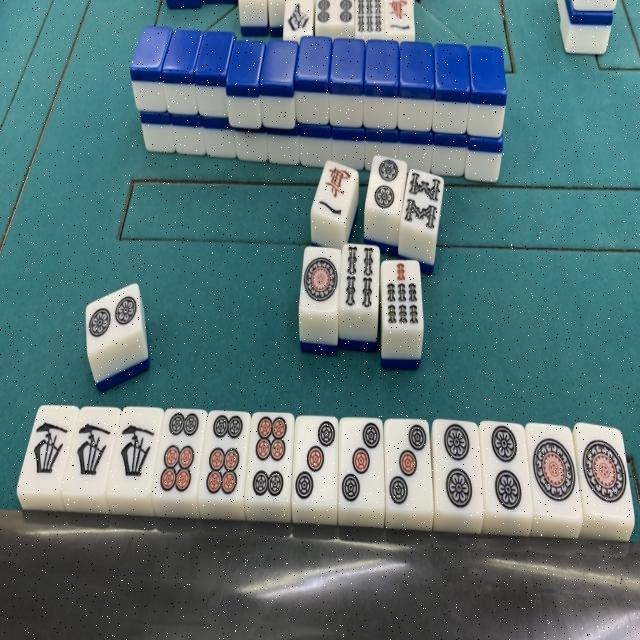bamboos_4: (338, 243, 381, 316)
bamboos_7: (382, 259, 424, 334)
bamboos_8: (400, 165, 446, 239)
characters_1: (310, 156, 360, 228)
circles_1: (574, 420, 636, 521), (526, 423, 582, 523), (298, 242, 342, 314)
circles_2: (432, 417, 485, 515), (479, 421, 530, 519), (85, 279, 142, 358), (366, 153, 410, 219)
circles_3: (385, 417, 434, 518), (292, 415, 342, 509), (339, 418, 387, 514)
circles_6: (152, 404, 208, 498), (198, 410, 254, 501), (243, 411, 296, 504)
west: (17, 403, 79, 495), (61, 407, 123, 496), (107, 407, 166, 497)
